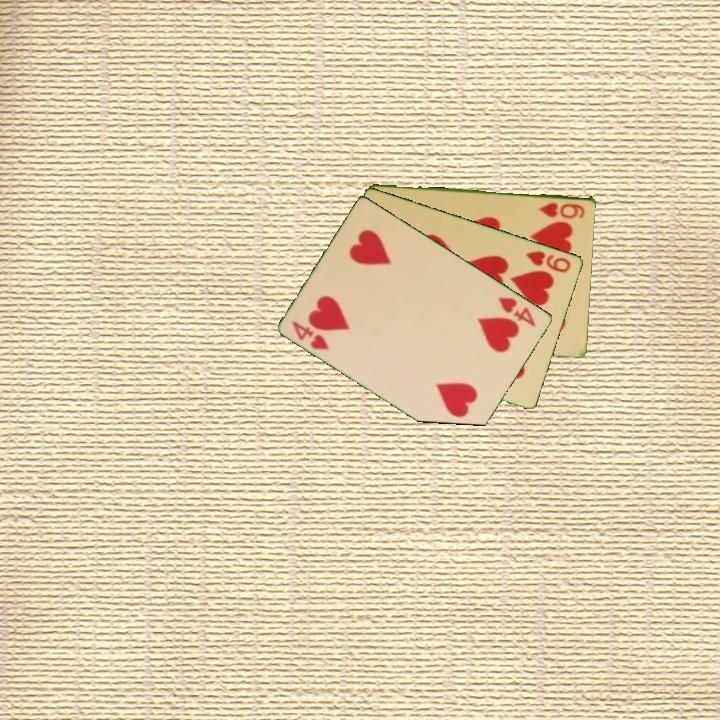4h: (495, 293, 539, 330), (289, 317, 333, 353)
6h: (536, 199, 588, 221)
9h: (522, 247, 574, 275)
